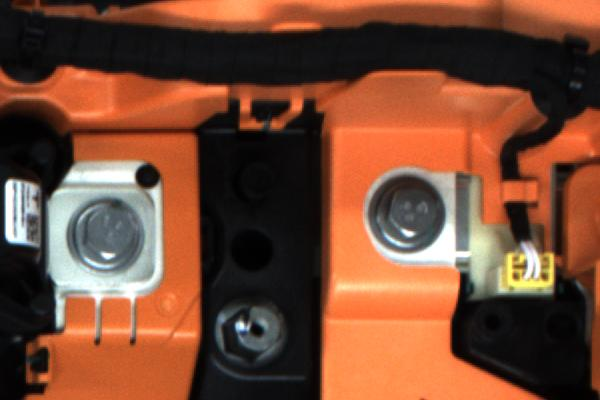nut_b: (348, 168, 453, 256), (57, 190, 154, 273)
